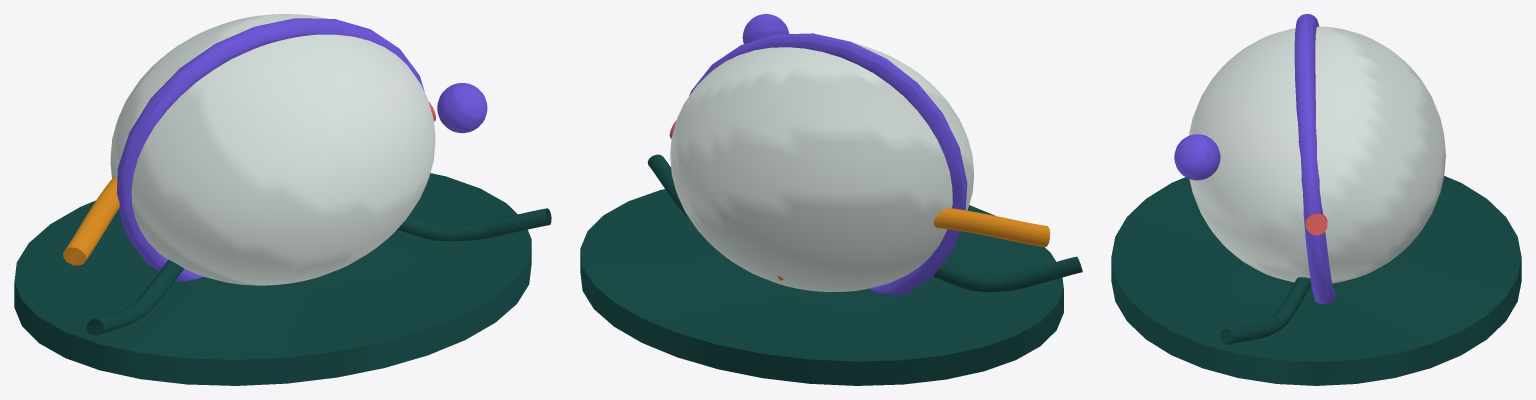
File: 0176_人体图鉴_嗅觉细胞.glb
3 views of the same model, side by side, from view 1: azimuth 30°, elevation 25°; view 2: azimuth 150°, elevation 25°; view 3: azimuth 270°, elevation 25° (orthographic). The views are drawn at different scales.
Visible parts, largest first — view 1: card_0176; view 2: card_0176; view 3: card_0176.
Part boxes in pixels (box(x1,y1,x2,y2)): card_0176: box(14, 14, 551, 385); card_0176: box(580, 14, 1082, 385); card_0176: box(1111, 14, 1521, 385).
Size of the model in its own units: 1.77 by 1 by 1.46.
